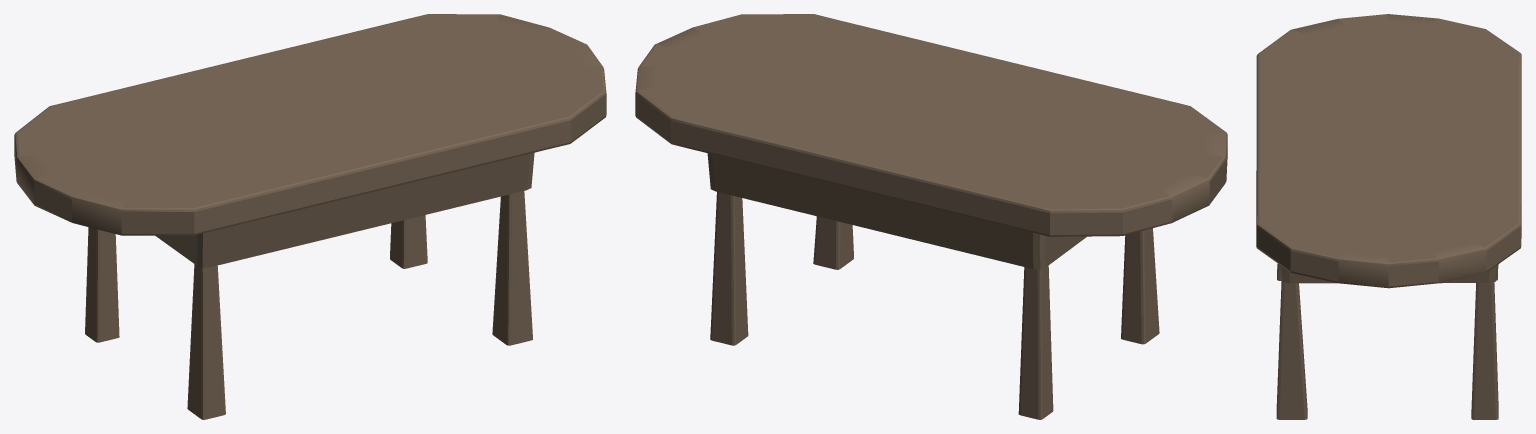
The model's file is DiningTable.FBX.
3 renders of one model, left to right at view 1: azimuth 30°, elevation 25°; view 2: azimuth 150°, elevation 25°; view 3: azimuth 270°, elevation 25°, orthographic. The views are drawn at different scales.
Parts seen in each view (by area): view 1: DiningTable_01; view 2: DiningTable_01; view 3: DiningTable_01.
Boxes of the visible parts, x1,y1,x2,y2 form: DiningTable_01: [14, 14, 606, 419]; DiningTable_01: [635, 14, 1227, 419]; DiningTable_01: [1256, 14, 1521, 419].
Bounding box in the file's own units: 208 × 80.56 × 93.25.
